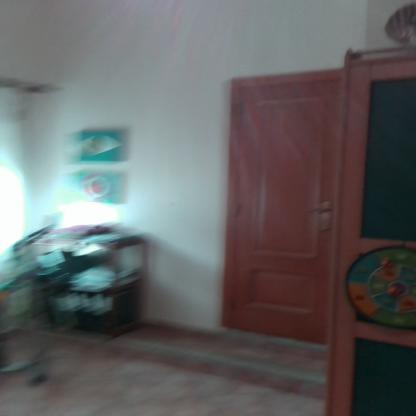door: (240, 86, 338, 340)
hinged: (237, 102, 244, 118), (233, 202, 240, 218), (230, 294, 236, 308)
lever: (304, 208, 330, 215)
